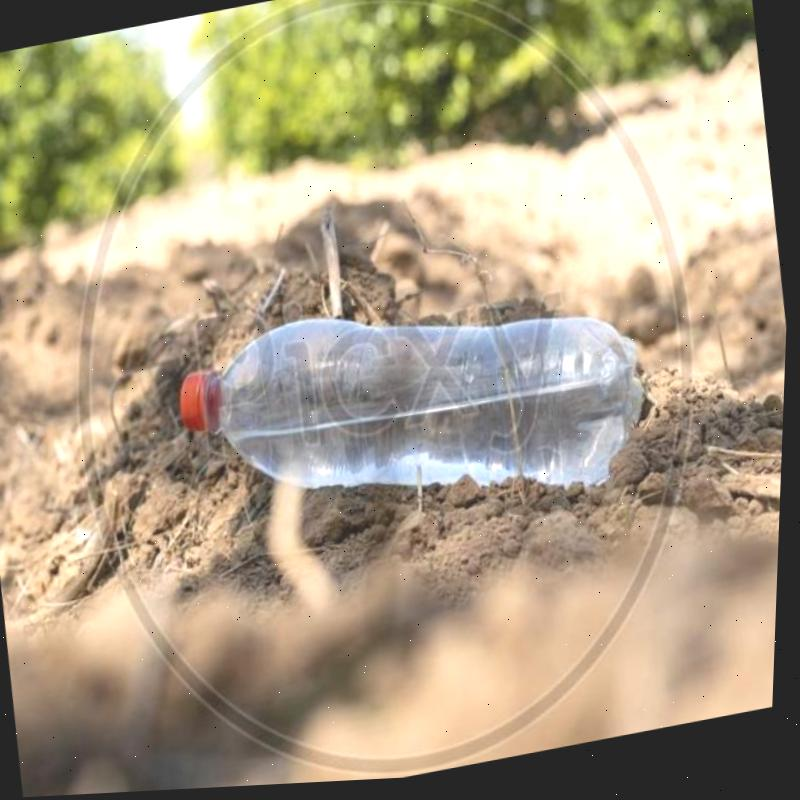botella: (170, 260, 668, 568)
